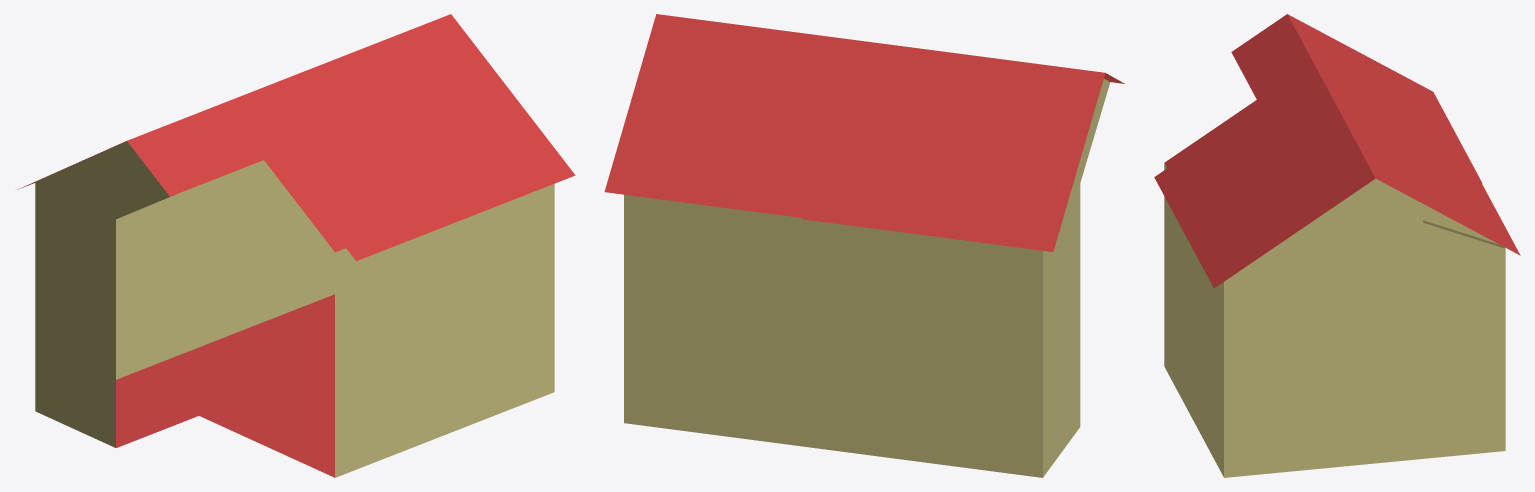
3 views of the same model, side by side, from view 1: azimuth 30°, elevation 25°; view 2: azimuth 150°, elevation 25°; view 3: azimuth 270°, elevation 25° (orthographic). The views are drawn at different scales.
Bounding box in the file's own units: 17.05 × 13.61 × 11.91.
